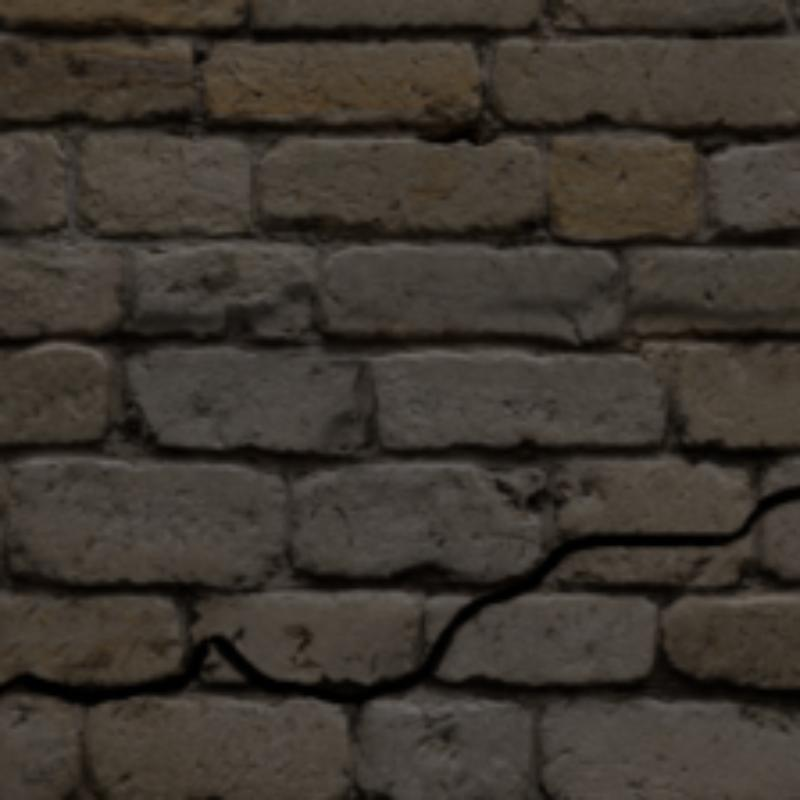crack: (0, 486, 796, 704)
